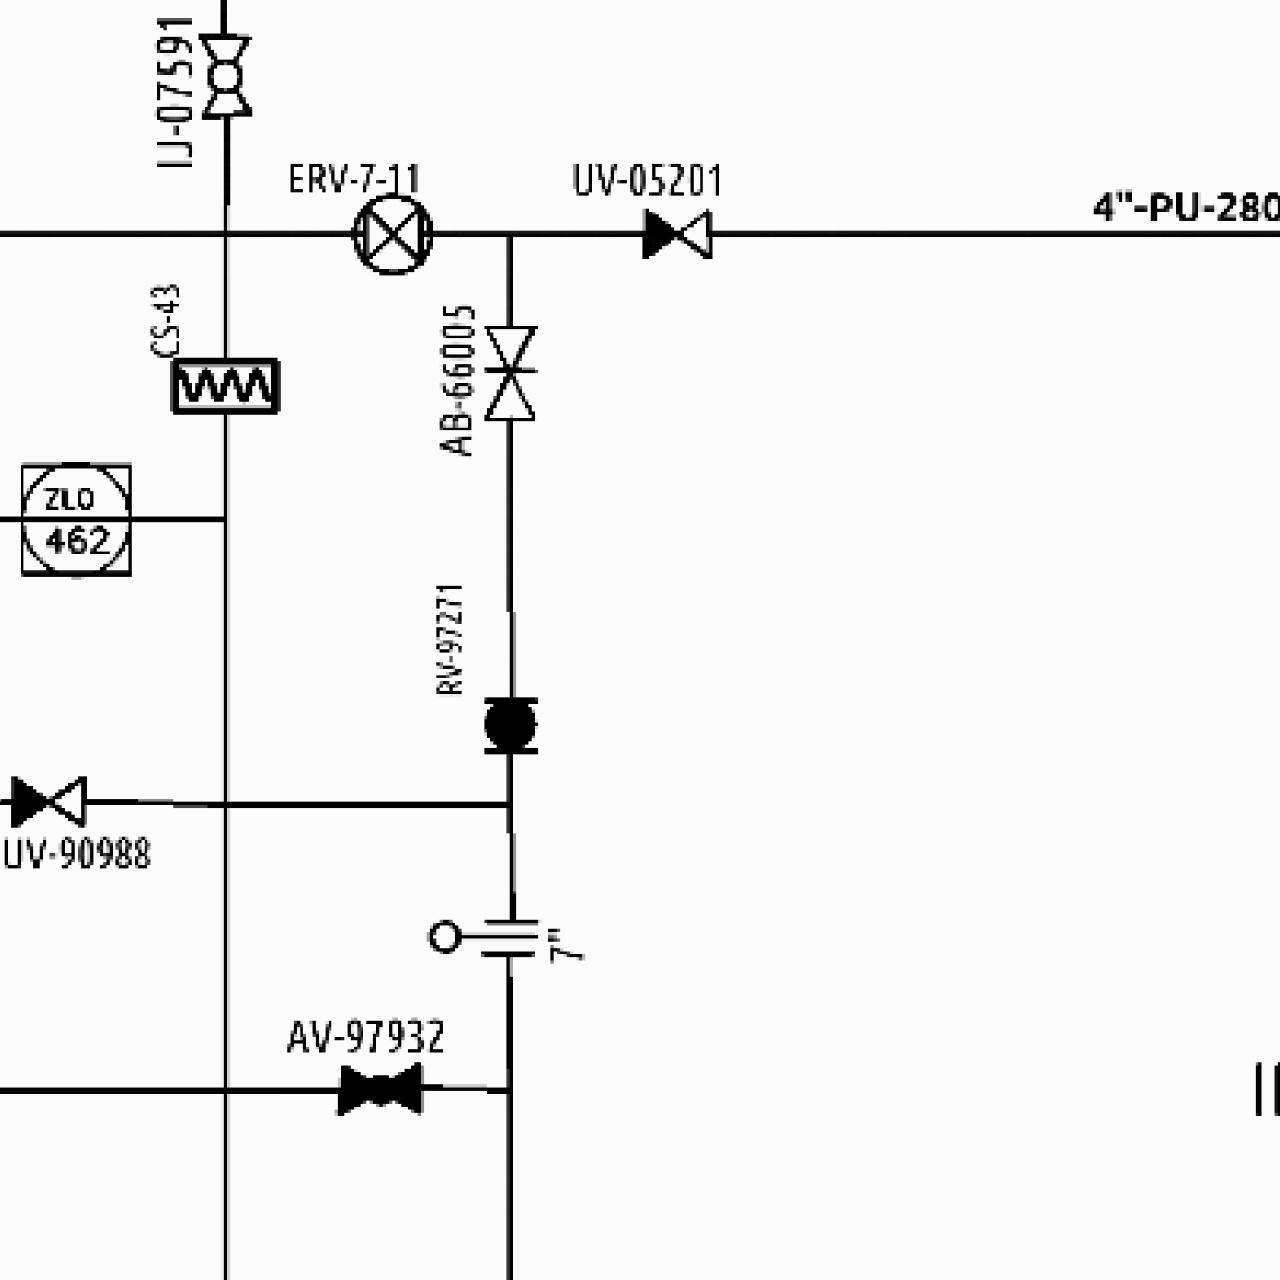Half closed valve: (6, 770, 89, 831), (638, 203, 715, 264)
